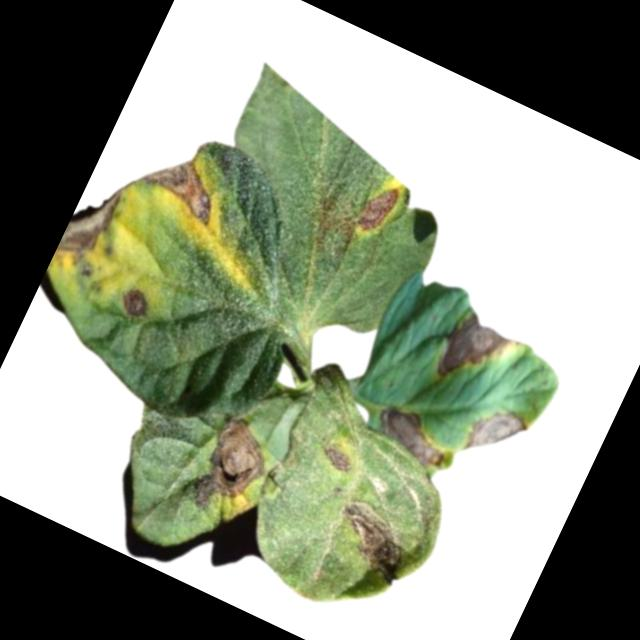Early_blight: (57, 123, 234, 303), (183, 409, 285, 529), (322, 491, 422, 585), (430, 304, 518, 398), (370, 399, 460, 474), (461, 397, 535, 472), (352, 178, 404, 239), (117, 282, 158, 323), (322, 440, 360, 475)
